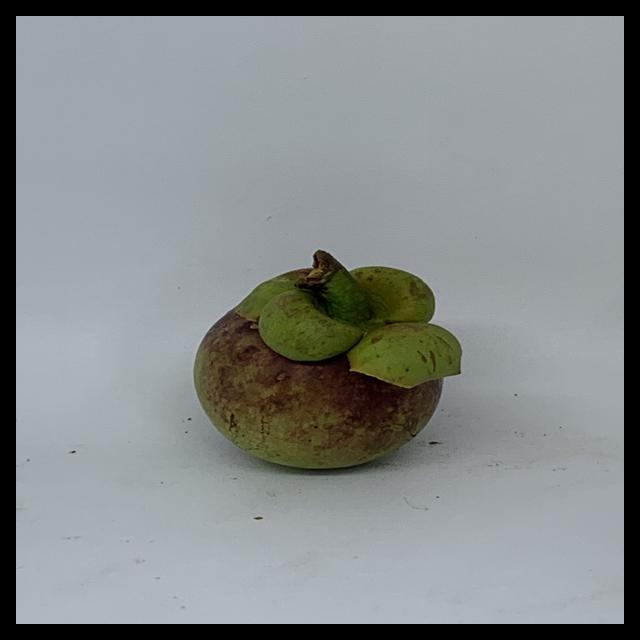mangosteen: (193, 224, 471, 484)
